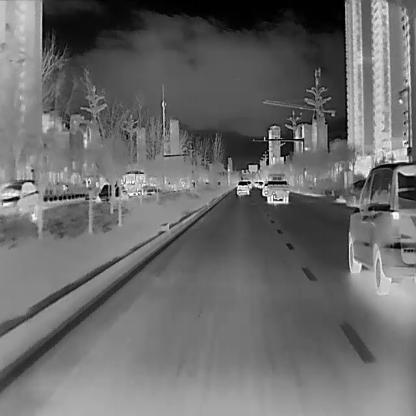car: (349, 160, 416, 294), (0, 177, 38, 217), (266, 173, 290, 203), (97, 184, 130, 203), (122, 171, 146, 196), (236, 181, 250, 195), (262, 182, 267, 196), (258, 181, 265, 189), (253, 180, 259, 187)
